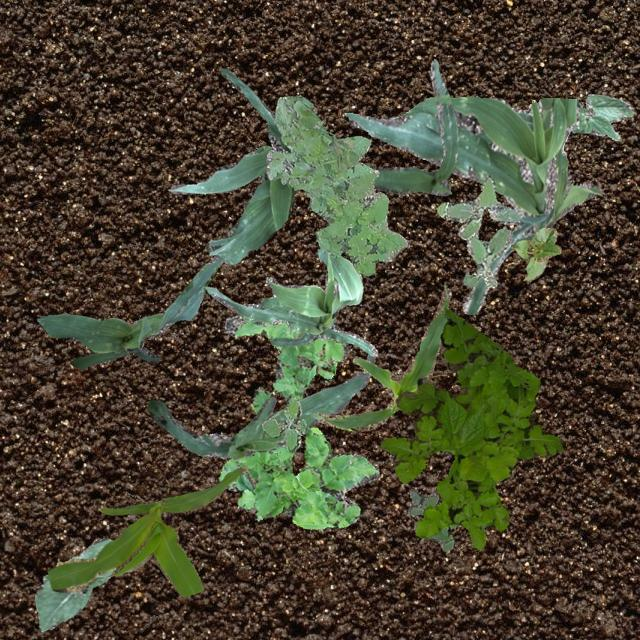crop: (344, 95, 602, 314), (46, 464, 246, 596), (168, 66, 294, 264), (146, 352, 374, 458), (36, 254, 222, 370), (310, 282, 450, 431), (202, 246, 376, 354), (372, 58, 457, 194), (34, 536, 114, 630), (570, 92, 634, 140), (510, 227, 560, 280)
weed: (378, 307, 564, 548), (218, 314, 378, 528), (266, 94, 406, 274), (436, 174, 520, 288), (406, 486, 456, 550), (260, 396, 304, 452)
